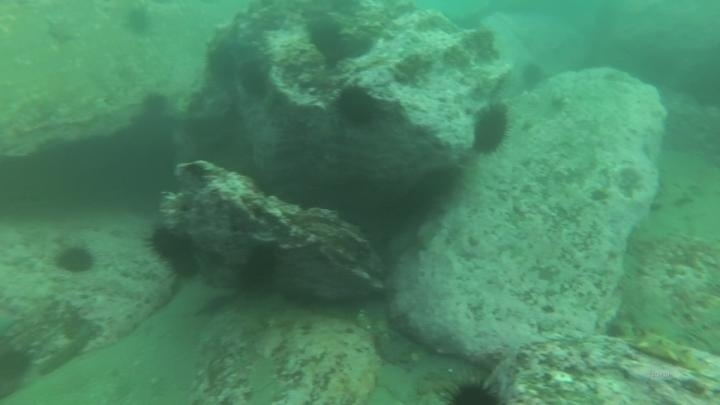echinus: (235, 242, 282, 294), (470, 103, 511, 156), (333, 83, 380, 129), (305, 19, 347, 61), (442, 377, 503, 405), (146, 224, 188, 262), (1, 343, 34, 388), (204, 44, 241, 84), (166, 240, 202, 281), (53, 243, 97, 276), (238, 62, 271, 99), (121, 6, 155, 39), (139, 90, 172, 122), (518, 61, 547, 92)
holothurian: (629, 327, 717, 376), (242, 350, 287, 405)
starfish: (43, 16, 81, 47)
